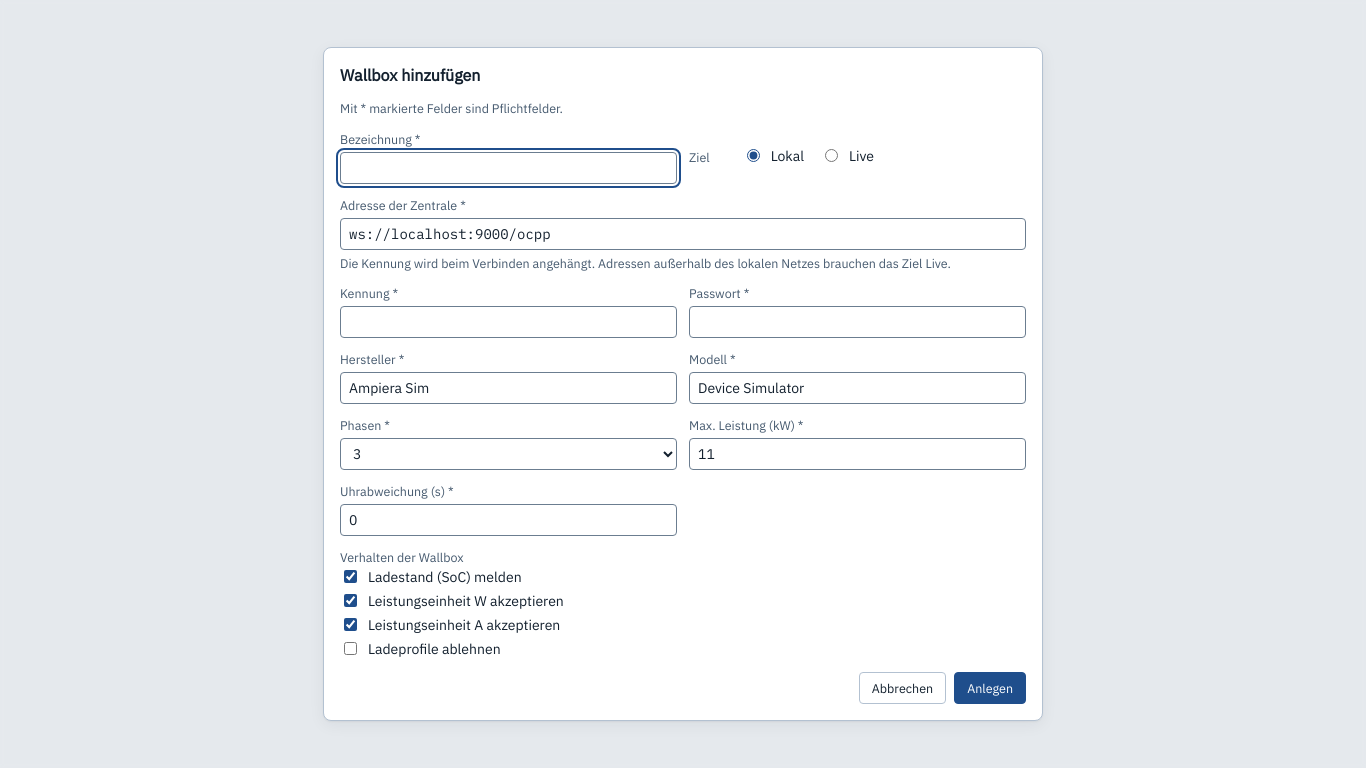
it: AddBoxDialog › resets the confirmation when switching back to local
The image size is (1366, 768).
Click the radio button labelled "Live" at (832, 156), box [825,150,838,162]
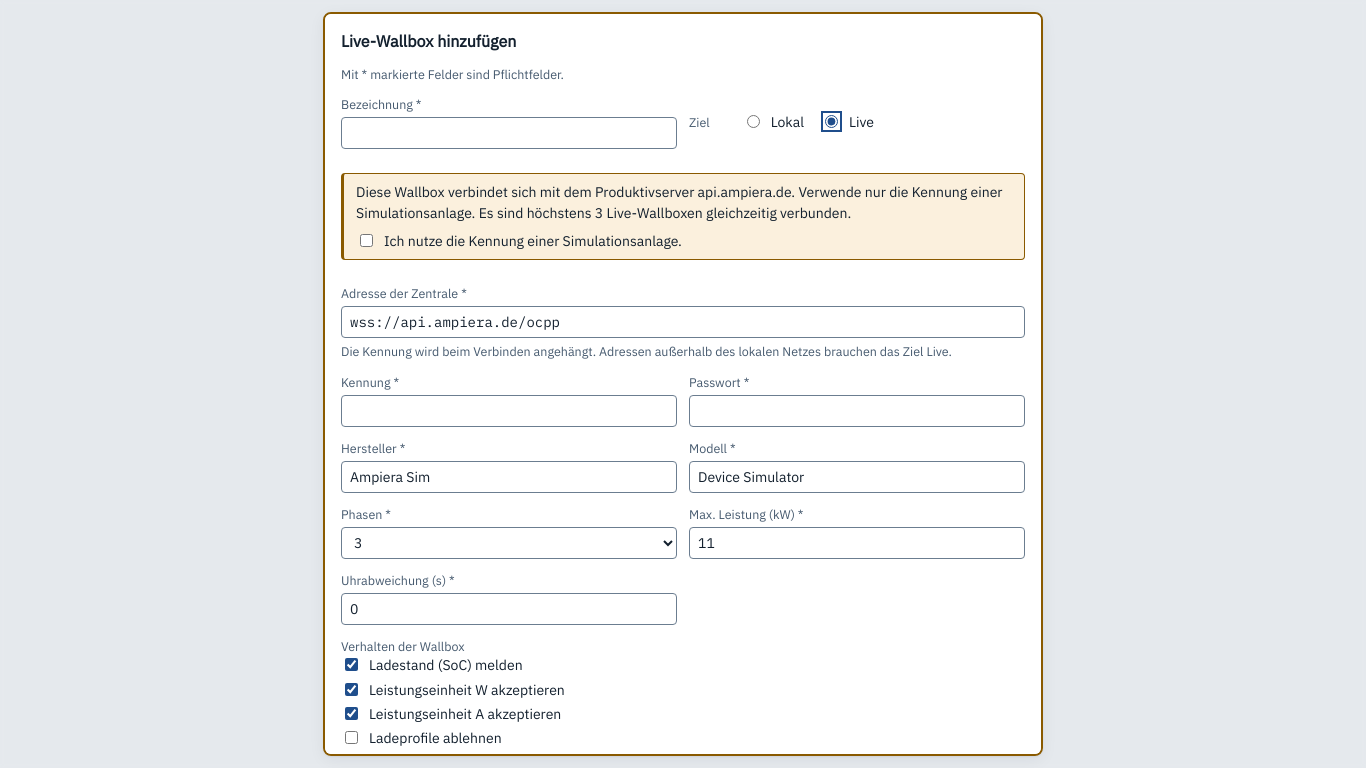
Click the checkbox labelled "Ich nutze die Kennung einer Simulationsanlage." at (366, 240), box [360,234,373,247]
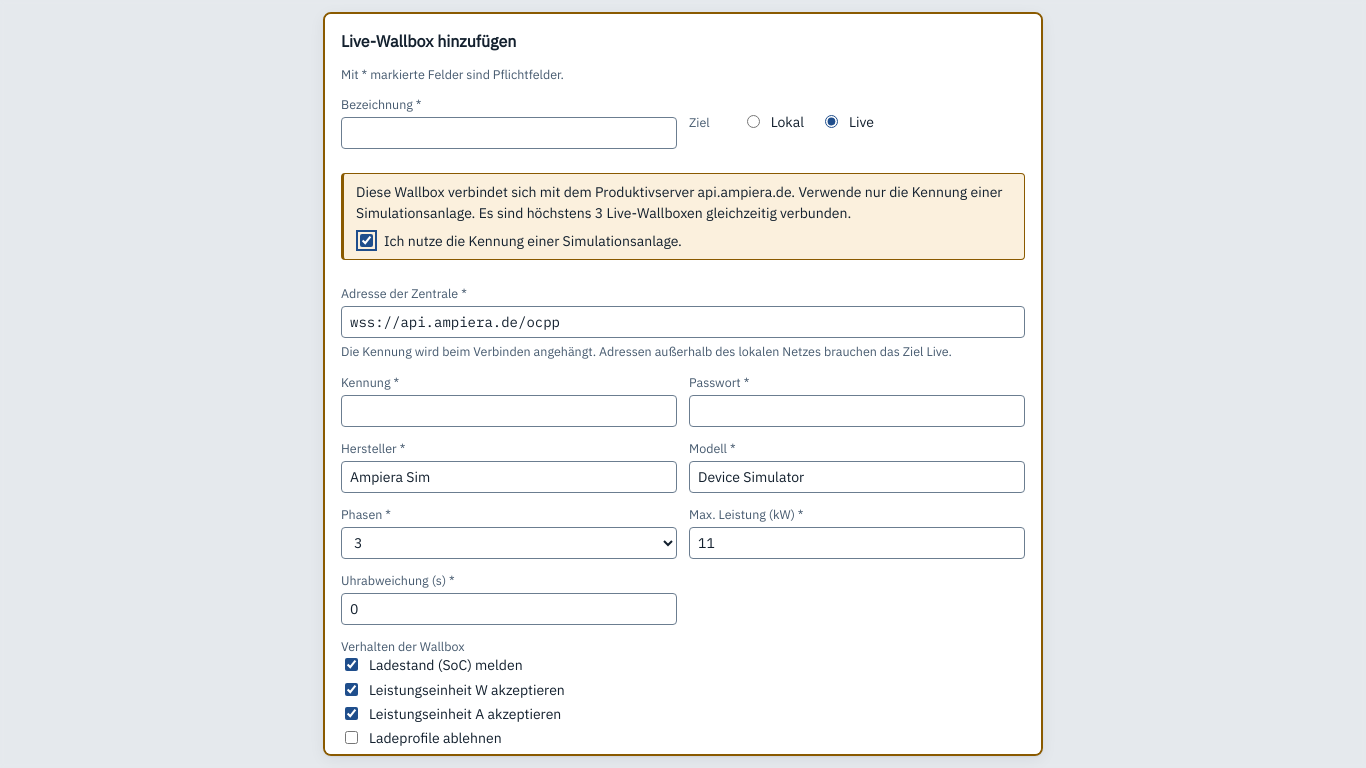
Click the radio button labelled "Lokal" at (753, 122), box [747,115,760,128]
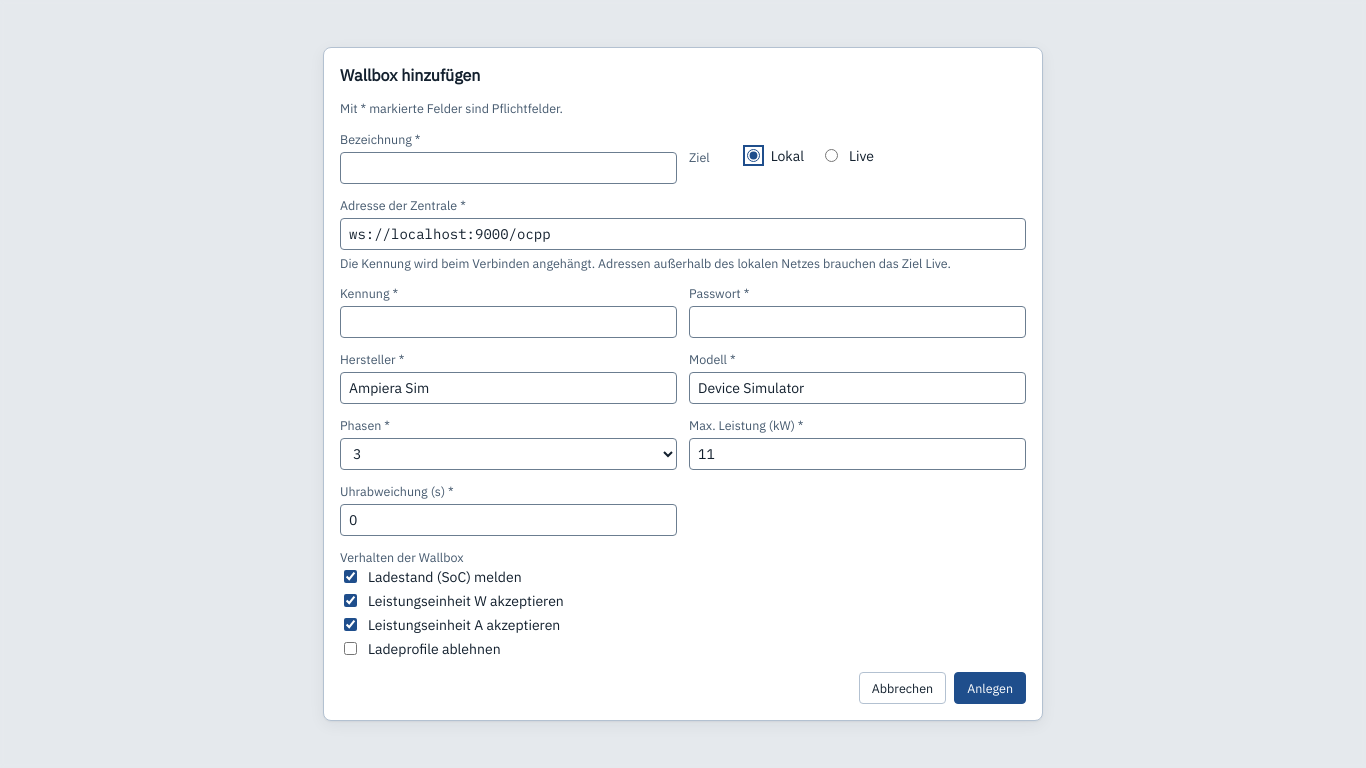
Click the radio button labelled "Live" at (832, 156), box [825,150,838,162]
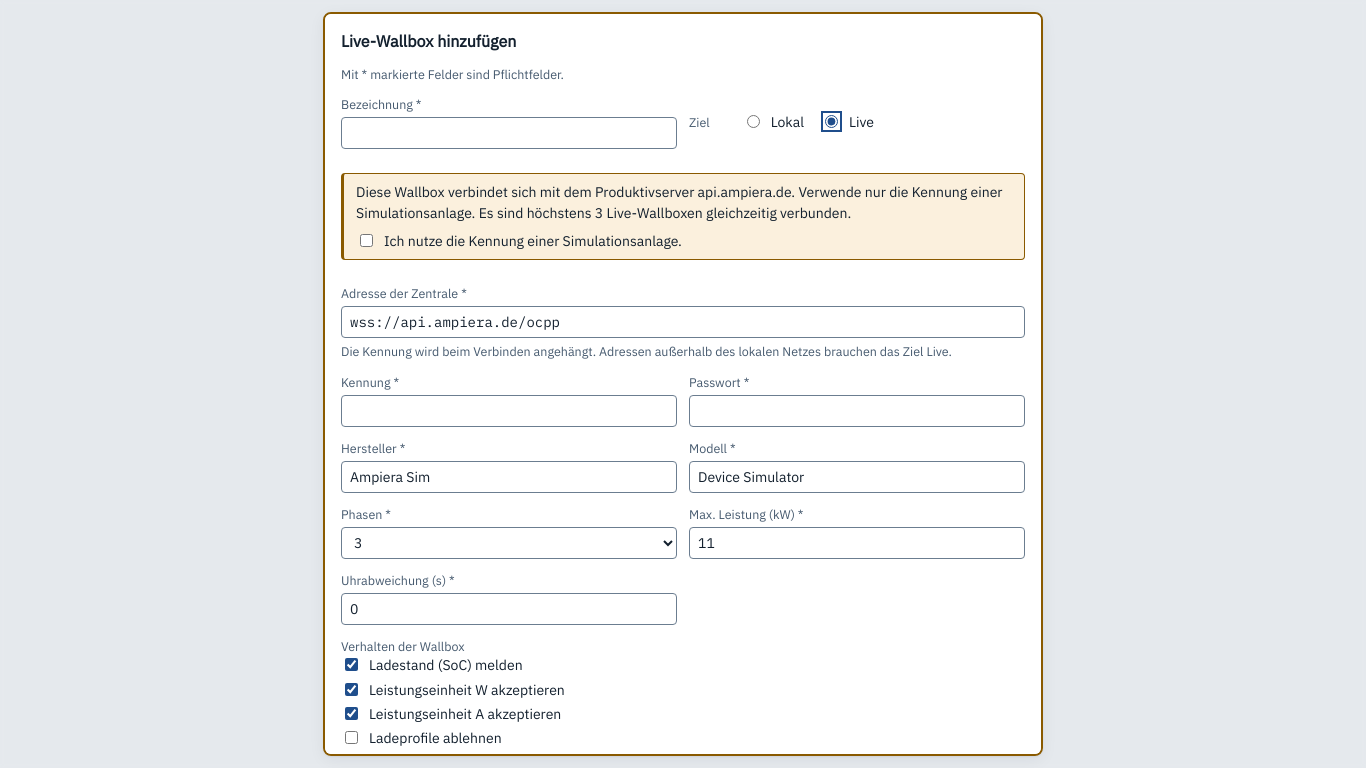
Expected: the checkbox labelled "Ich nutze die Kennung einer Simulationsanlage." is not checked, [360,234,373,247]
